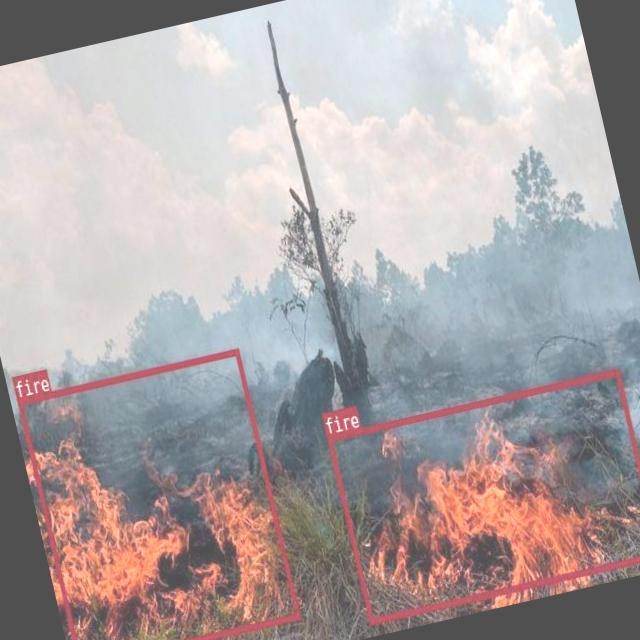fire: (15, 347, 299, 640), (326, 367, 640, 622)
